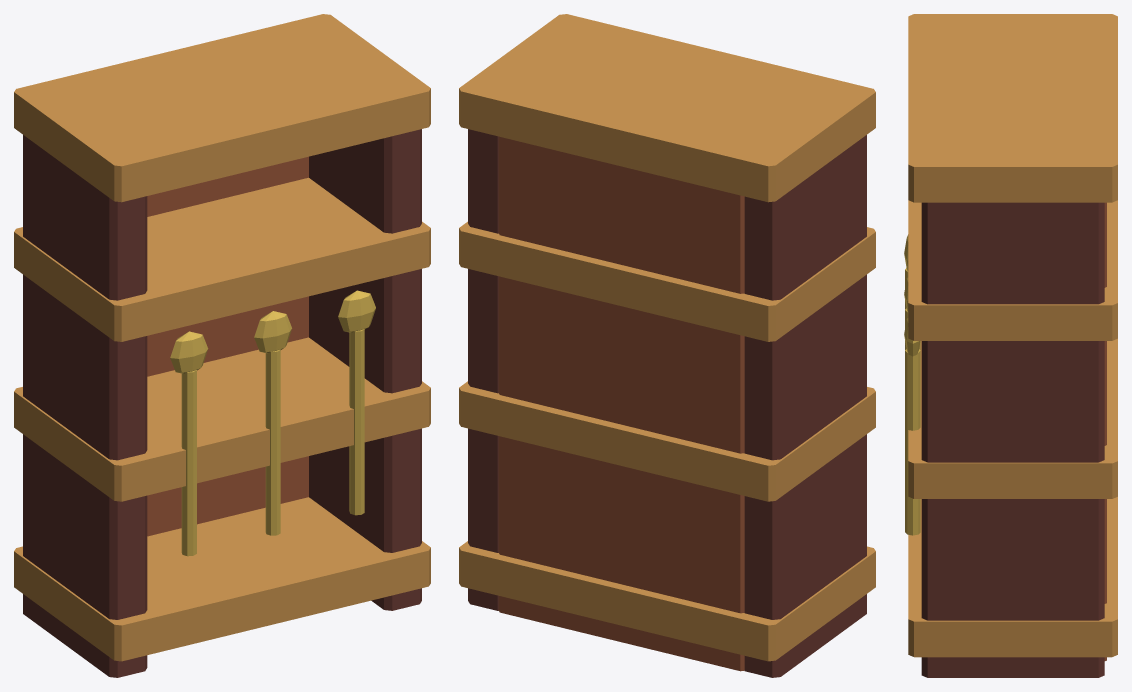
The model's file is Rack.fbx.
The picture shows the model from 3 angles, left to right: view 1: azimuth 30°, elevation 25°; view 2: azimuth 150°, elevation 25°; view 3: azimuth 270°, elevation 25°; orthographic projection.
Parts seen in each view (by area): view 1: Rack.005; view 2: Rack.005; view 3: Rack.005.
Boxes of the visible parts, box(x1,y1,x2,y2) form: Rack.005: box(14, 14, 430, 677); Rack.005: box(459, 14, 875, 677); Rack.005: box(904, 14, 1117, 677).
Bounding box in the file's own units: 83 × 130 × 49.
